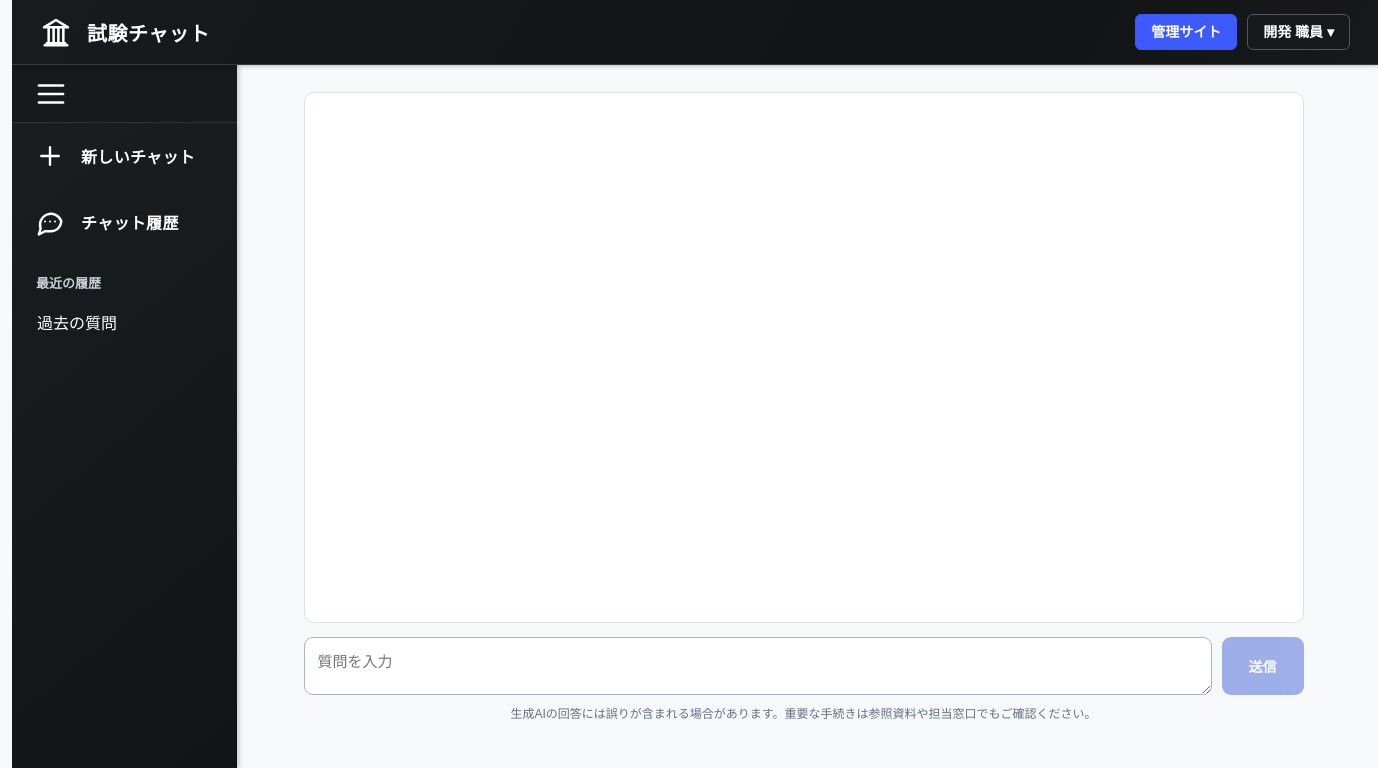
it: CB-101 チャットUI › 戻るアイコンで検索モードを終了して通常の履歴表示へ戻る
The width and height of the screenshot is (1378, 768).
Expected: the text "過去の質問" is shown, [37,315,117,332]
Click the button "チャット履歴" at (124, 222), box [12,189,237,255]
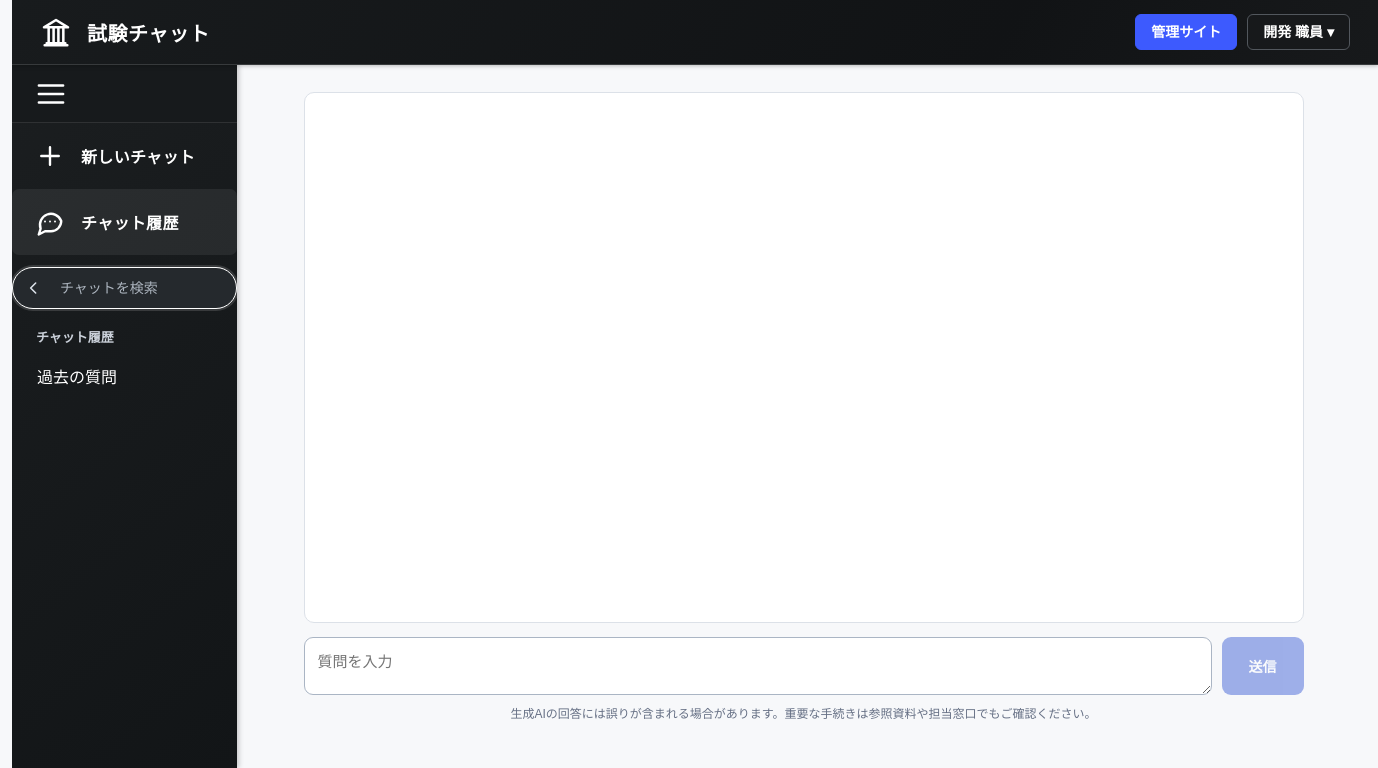
Type "進学届" into the field with placeholder "チャットを検索" at (142, 288), box [58,279,225,297]
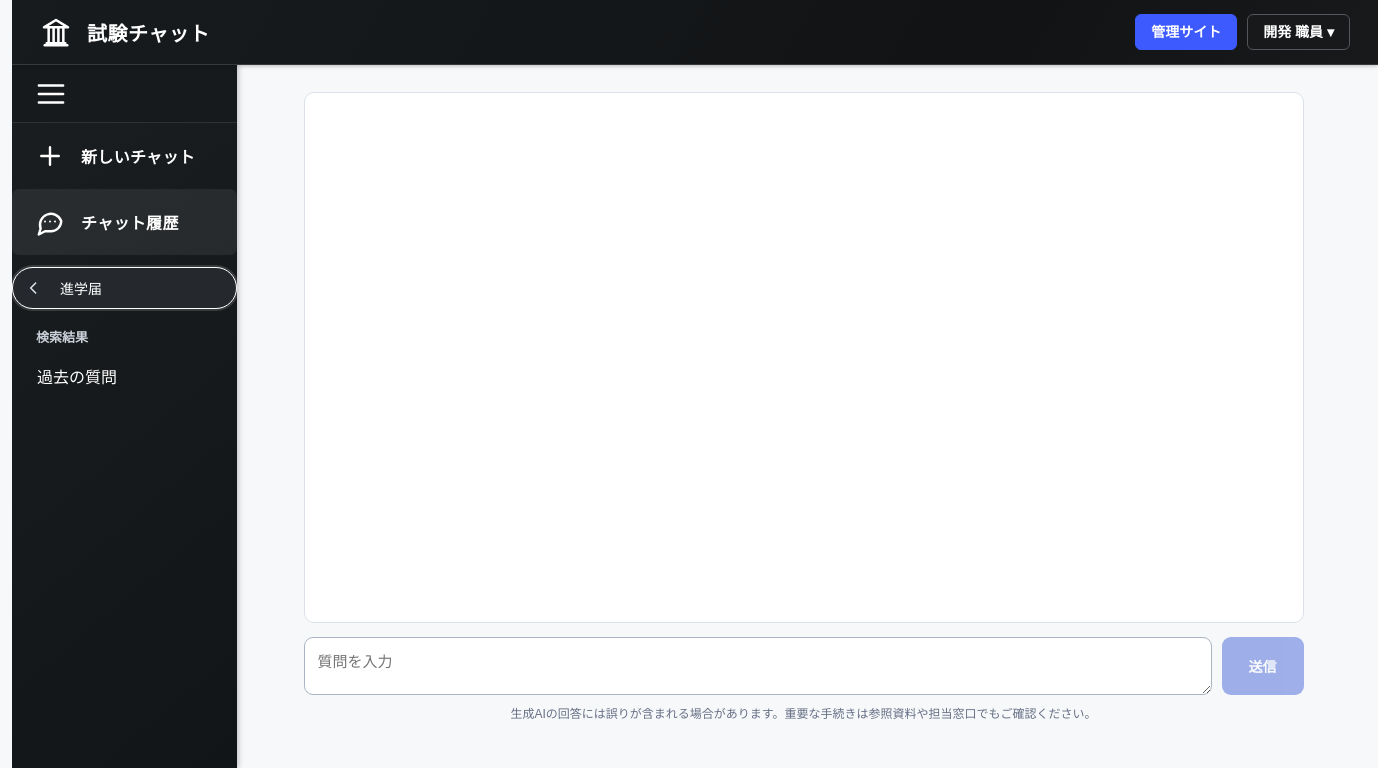
Click the button named "検索を終了" at (34, 288), box [18,272,50,304]
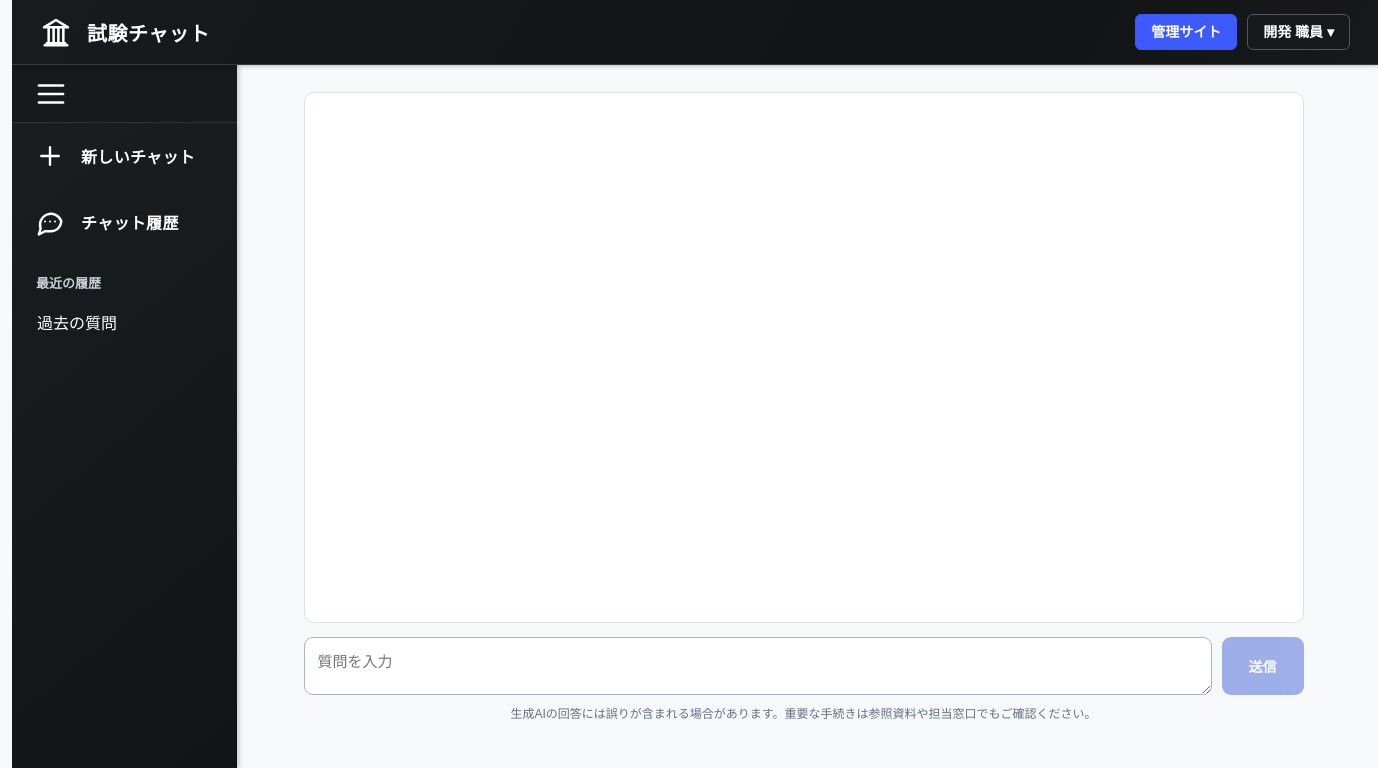
Result: the field with placeholder "チャットを検索" is gone
Result: the heading "最近の履歴" is shown at [36,276,101,291]
